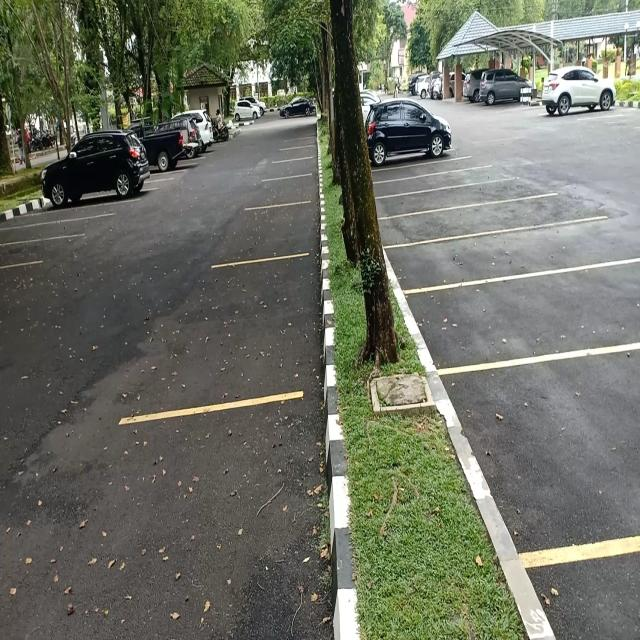empty: (468, 355, 640, 559), (200, 254, 320, 410), (431, 274, 634, 366), (399, 229, 556, 289), (380, 208, 529, 240), (238, 201, 318, 260), (394, 188, 480, 211), (262, 173, 315, 204), (1, 223, 91, 240), (389, 175, 470, 191)
occupied: (40, 141, 150, 210), (365, 104, 461, 168)
